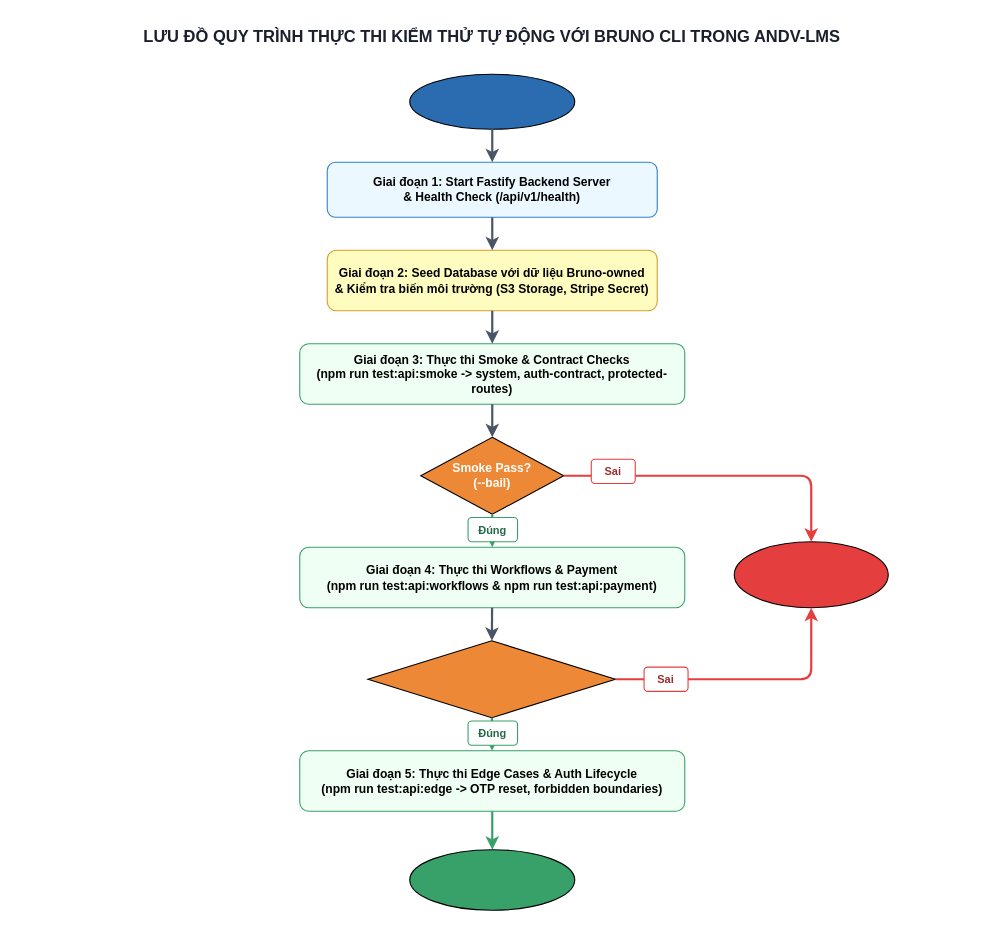
Some shapes in this 983 by 930 pixel diagram are drawn without their labels. Each missing label, with the centre of its shape:
BẮT ĐẦU (Trigger CLI Script): the point at 492,101
DỪNG KIỂM THỬ & BÁO LỖI (FAIL): the point at 810,574
HOÀN THÀNH TEST SUITE PASS: the point at 492,879
Workflows & Payment Pass?: the point at 491,679
